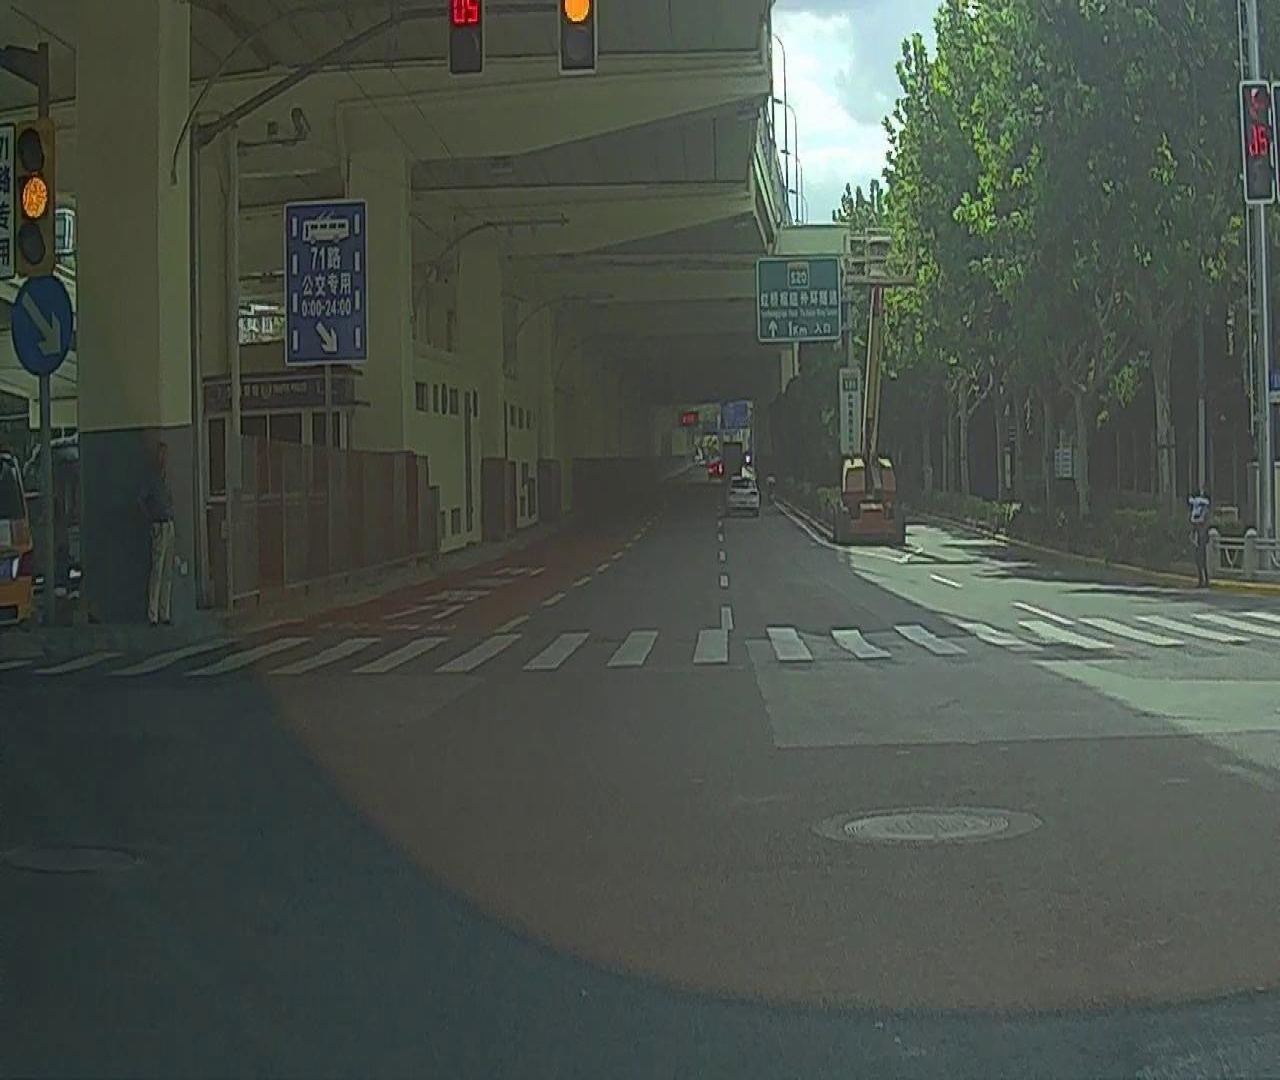red: (450, 1, 484, 66)
yellow: (560, 1, 599, 66)
